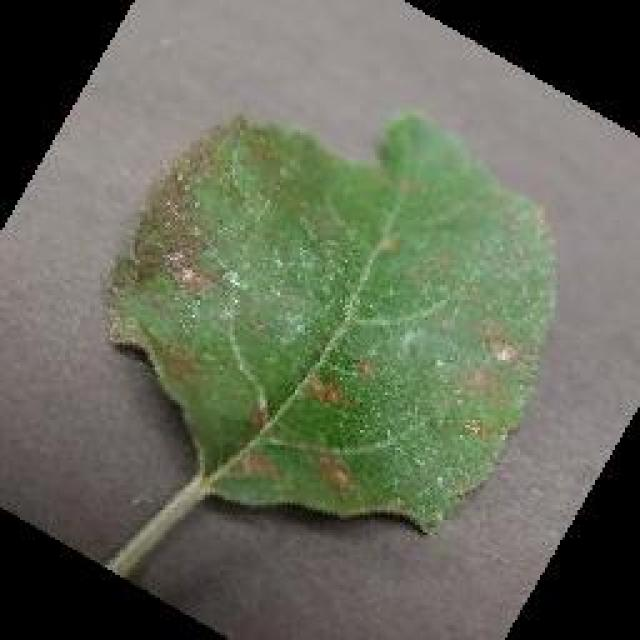apple cedar apple rust: (100, 107, 560, 575)
